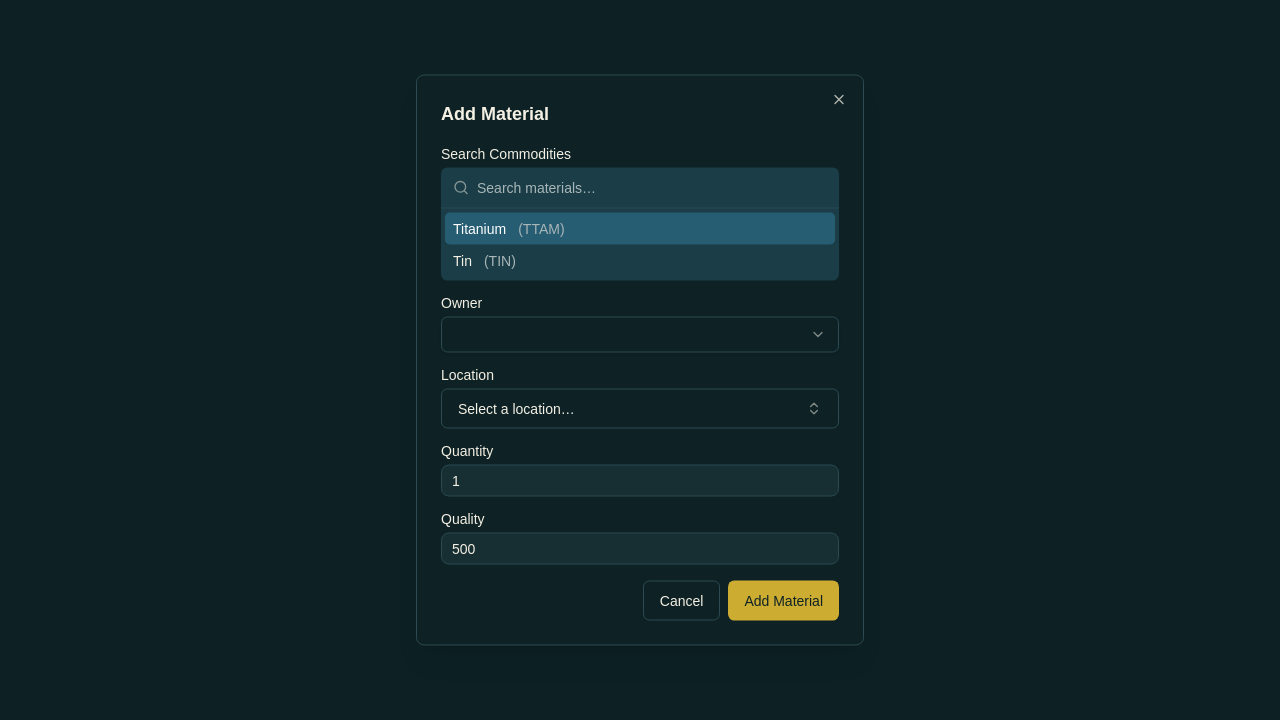
it: AddMaterialDialog › shows a validation message for Quantity <= 0
The width and height of the screenshot is (1280, 720).
Type "titanium" into the dropdown named "search commodities" at (652, 188), box [477,168,827,208]
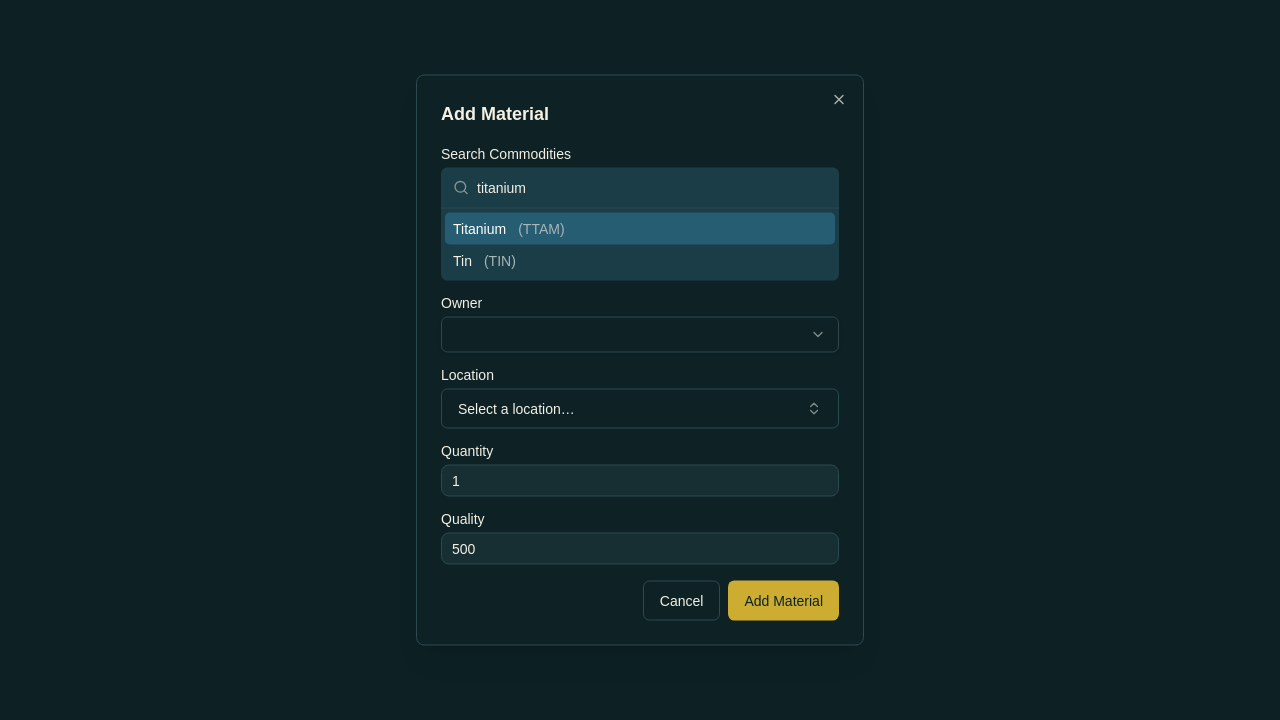
Click the option "Titanium (TTAM)" at (480, 228), box [445,212,835,244]
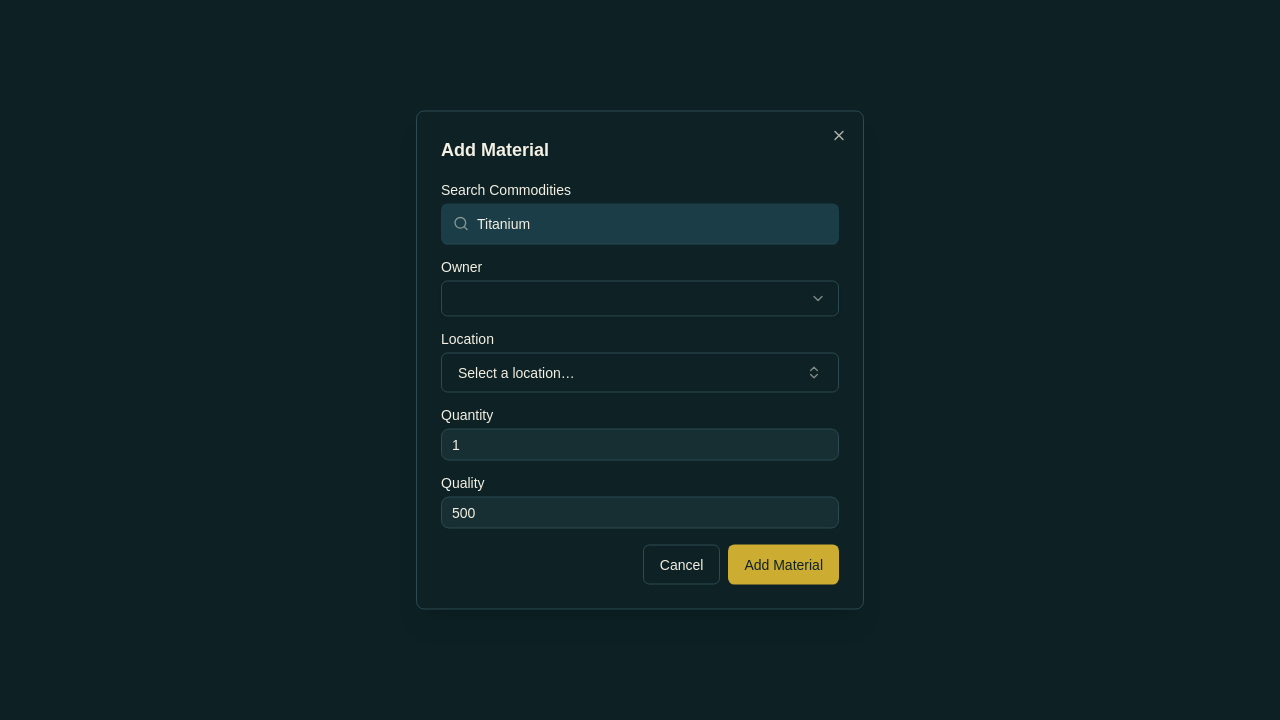
Click the dropdown "Select a location…" at (516, 372), box [441,352,839,392]
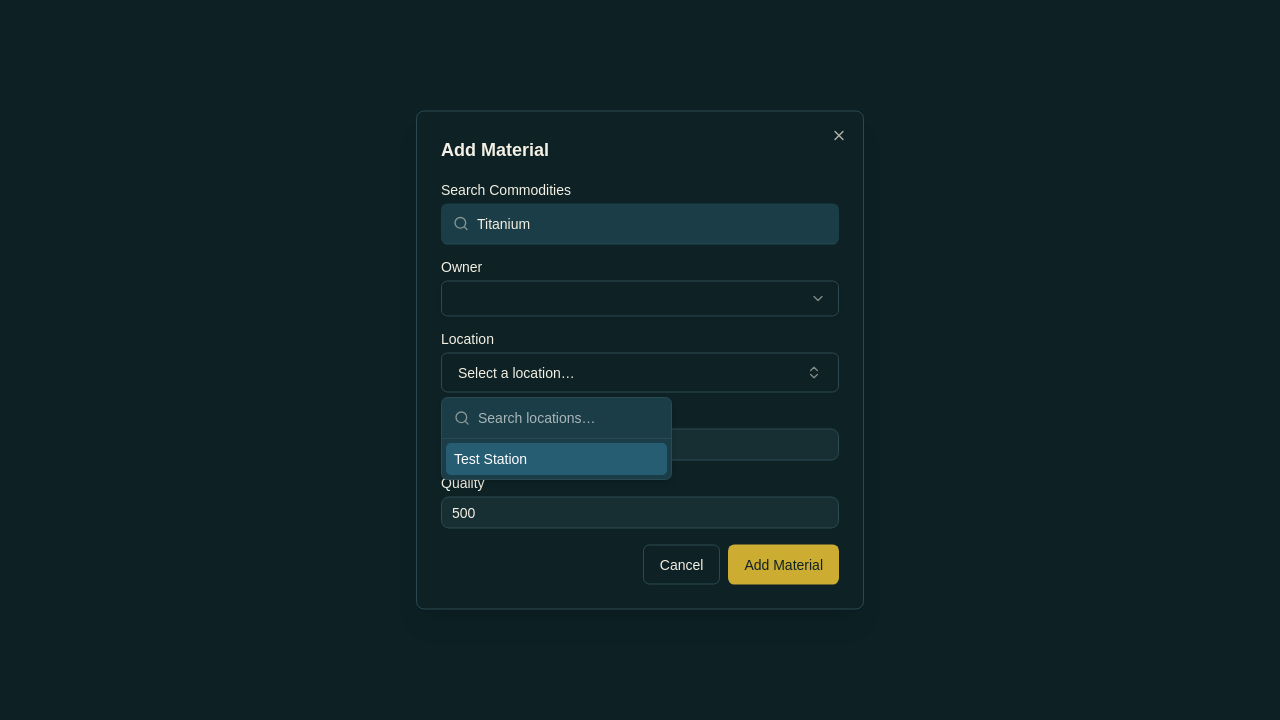
Result: the option "Test Station" is shown
Click the option "Test Station" at (556, 459), box [446,443,667,475]
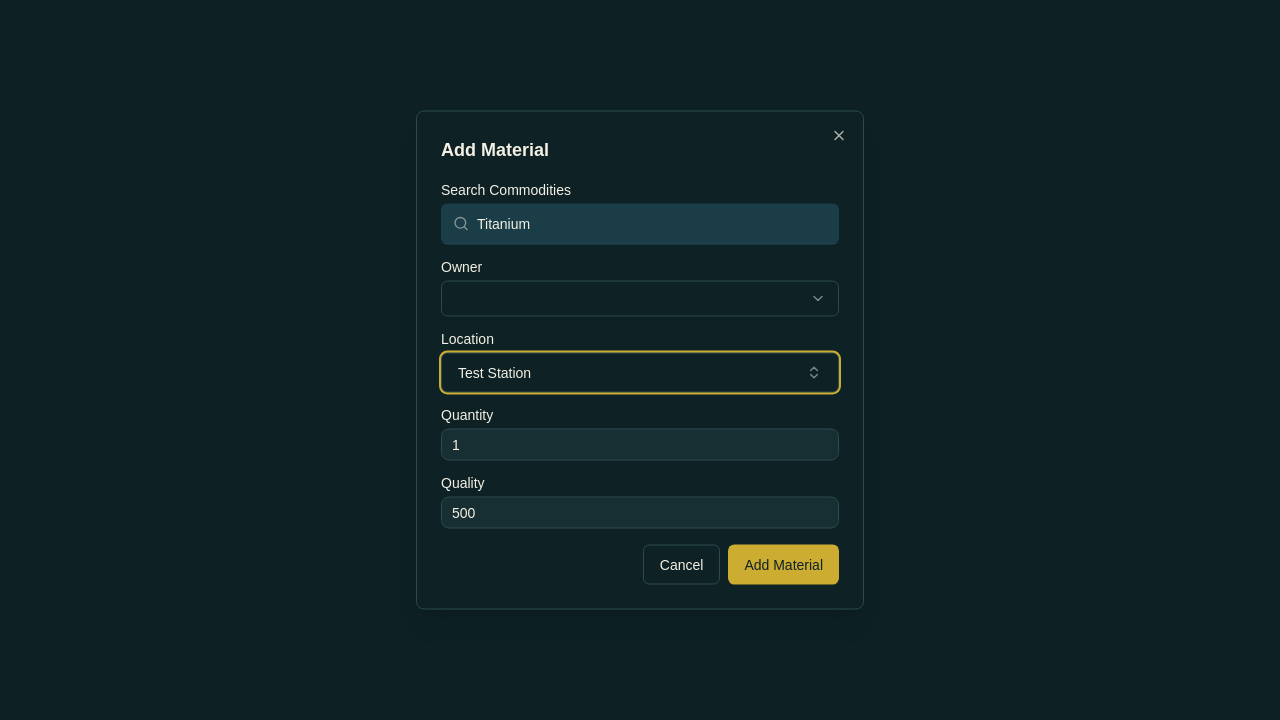
Replace the text in the number field labelled "Quantity" with "0" at (640, 444), box [441,428,839,460]
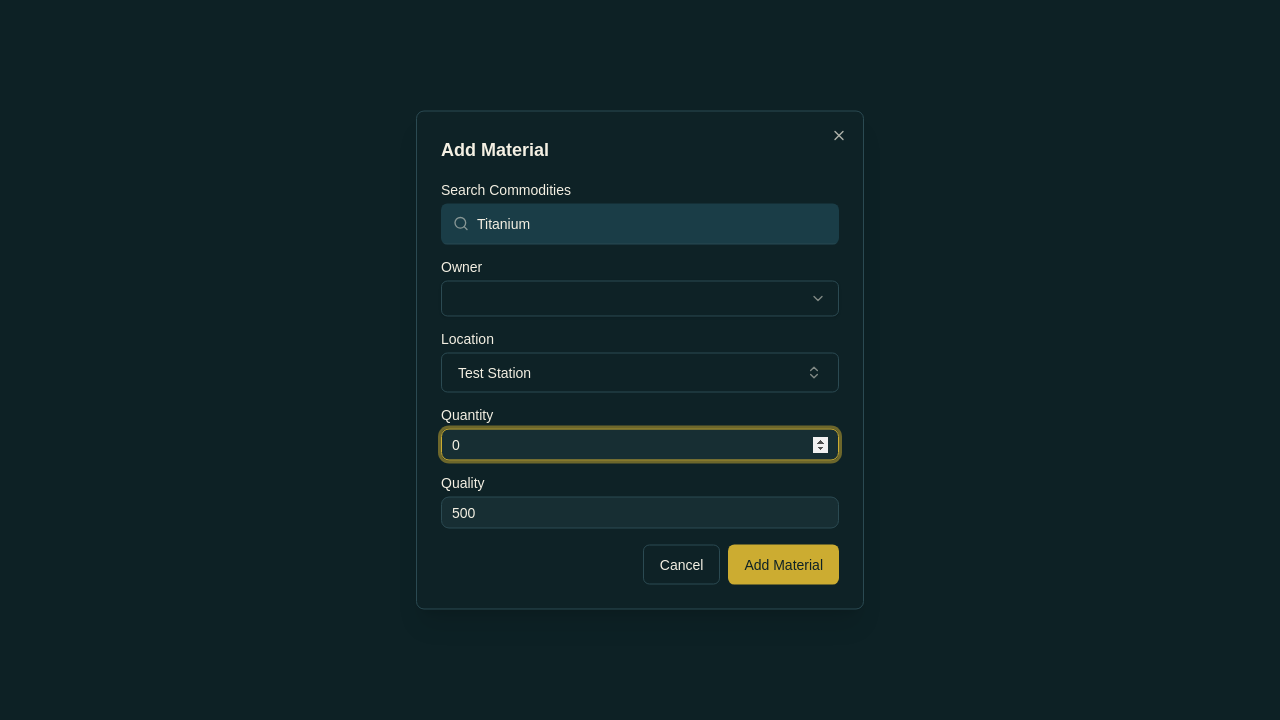
Click the button "Add Material" at (784, 564), box [728,544,839,584]
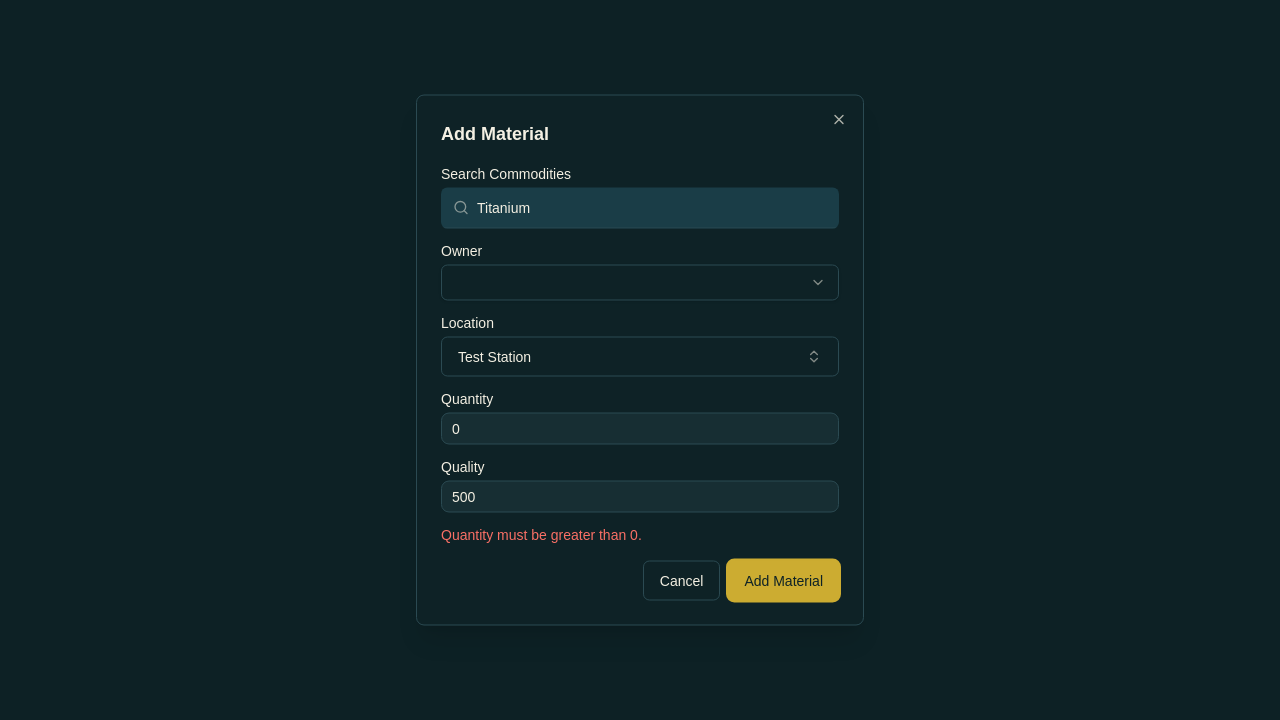
Result: the text "Quantity must be greater than 0." is shown at [441,526,642,542]
